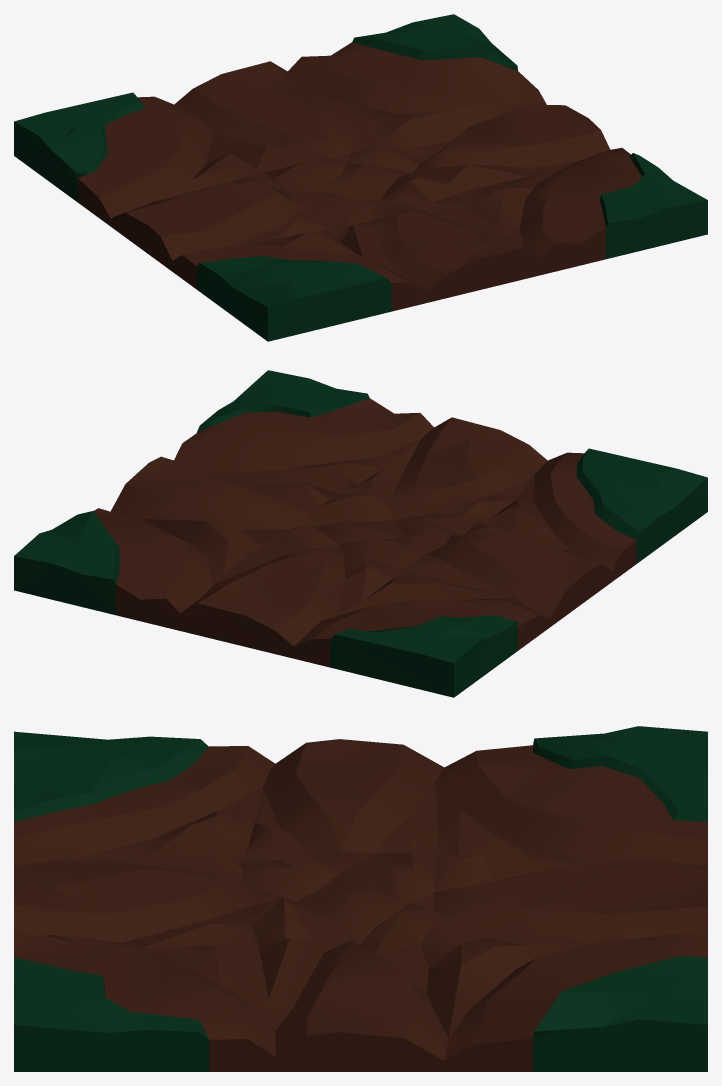
Rendered from Ground_Road_Crossroads.fbx.
3 renders of one model, top to bottom at view 1: azimuth 30°, elevation 25°; view 2: azimuth 150°, elevation 25°; view 3: azimuth 270°, elevation 25°, orthographic. The views are drawn at different scales.
Visible parts, largest first — view 1: Ground_Road_Crossroads; view 2: Ground_Road_Crossroads; view 3: Ground_Road_Crossroads.
Part boxes in pixels (<box>): Ground_Road_Crossroads: <box>14,14,707,341</box>; Ground_Road_Crossroads: <box>14,370,707,697</box>; Ground_Road_Crossroads: <box>14,726,707,1071</box>.
Size of the model in its own units: 147 by 14.83 by 147.
